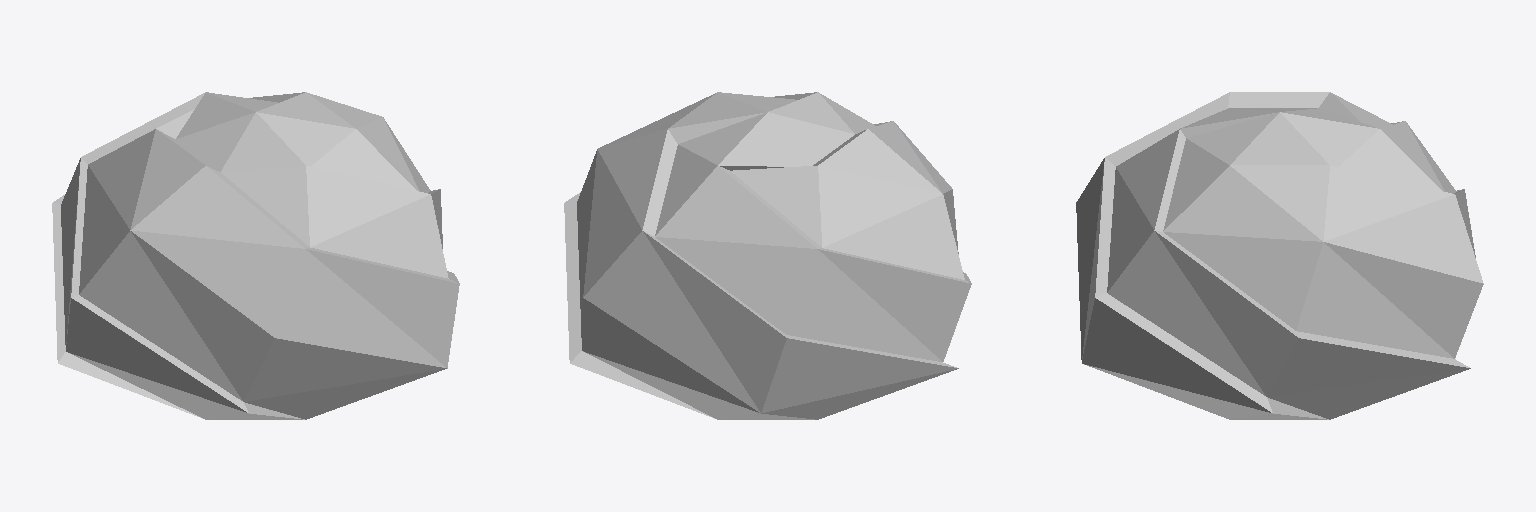
The model's file is Lettuce.obj.
The picture shows the model from 3 angles: view 1: azimuth 30°, elevation 25°; view 2: azimuth 150°, elevation 25°; view 3: azimuth 270°, elevation 25°; orthographic projection.
Visible parts, largest first — view 1: Lettuce; view 2: Lettuce; view 3: Lettuce.
Part boxes in pixels (x1,y1,x2,y2): Lettuce: (52,92,459,419); Lettuce: (564,92,971,419); Lettuce: (1076,92,1483,419).
Bounding box in the file's own units: 0.5569 × 0.3928 × 0.5043.